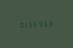eight: (47, 19, 51, 27)
nine: (37, 19, 41, 27)
one: (22, 20, 26, 28)
six: (42, 19, 46, 27), (32, 20, 36, 27)
three: (27, 20, 31, 28)
zero: (17, 20, 21, 28)
